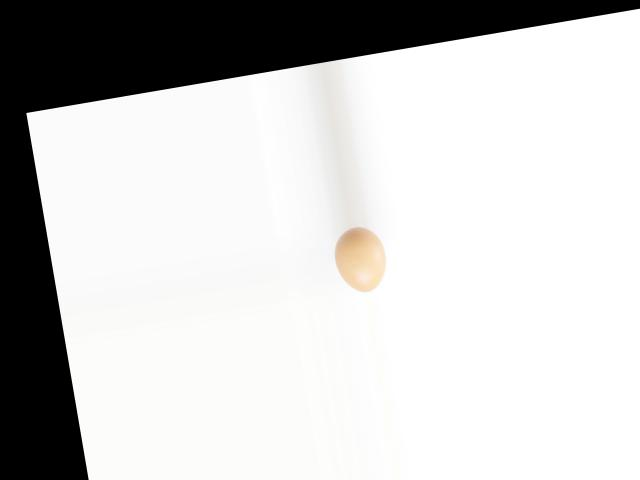egg: (329, 223, 389, 296)
